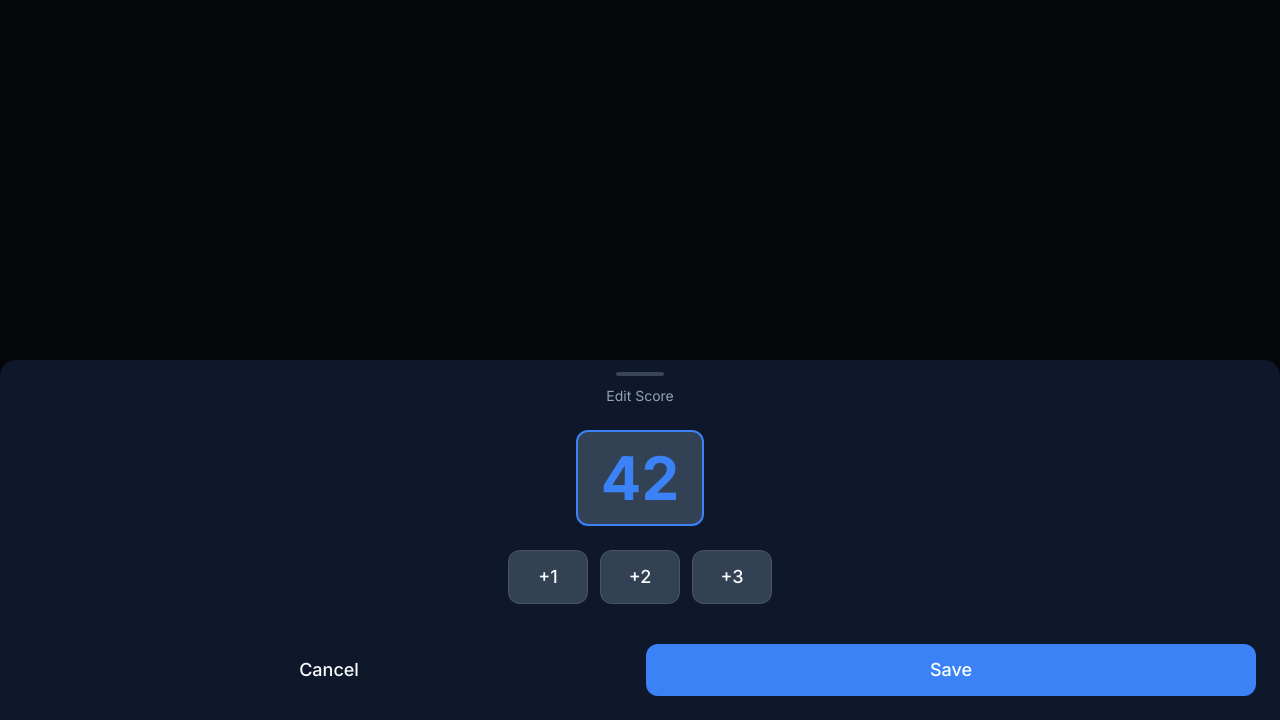
Scenario: ScoreEditSheet › error handling › should show retry button after error
The width and height of the screenshot is (1280, 720).
(page scrolled)
Click the button "Save" at (951, 670), box [646,644,1256,696]
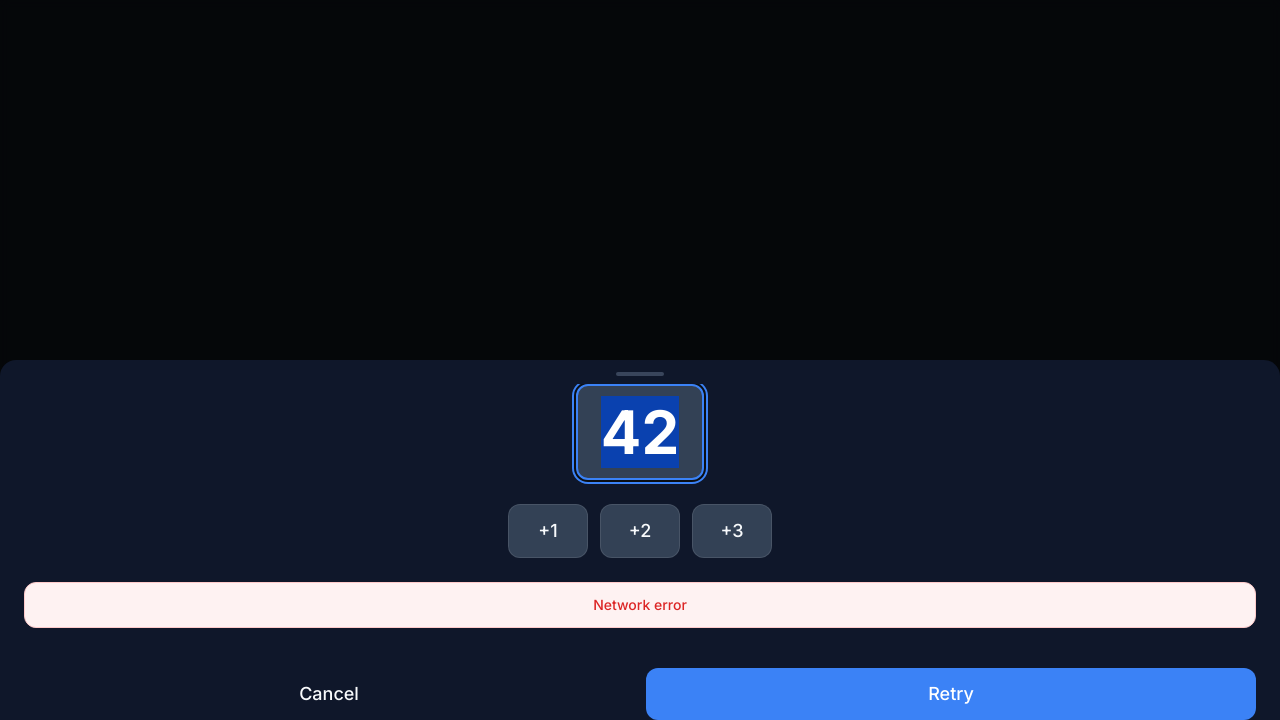
Expected: the button with test id "btn-retry" is shown, [646,668,1256,719]
